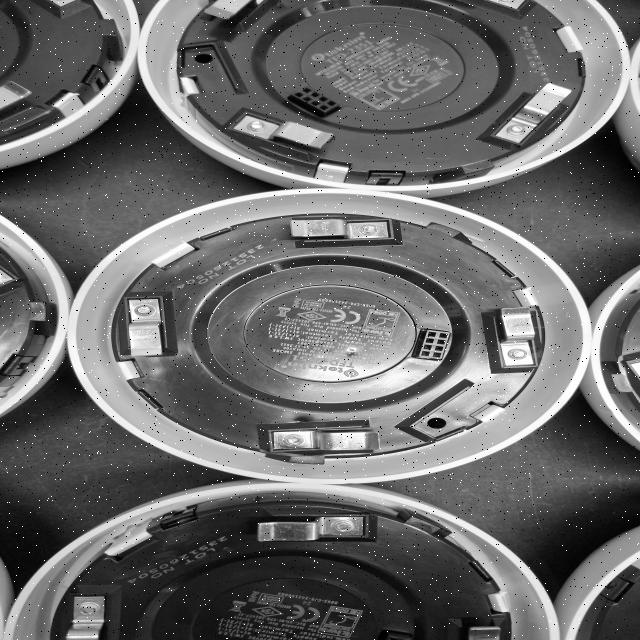yaysiz: (232, 511, 392, 550), (483, 80, 572, 149), (256, 417, 402, 458), (265, 214, 401, 255), (114, 290, 178, 366), (480, 302, 540, 374), (224, 117, 334, 156)
